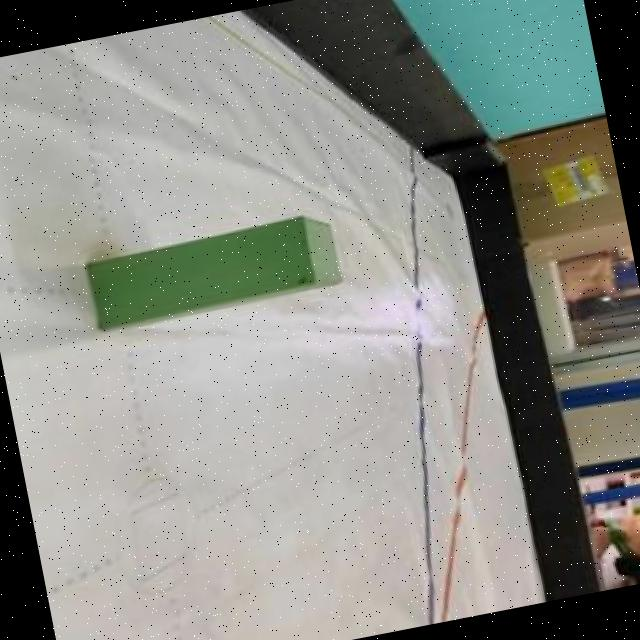greenbox: (85, 210, 346, 332)
